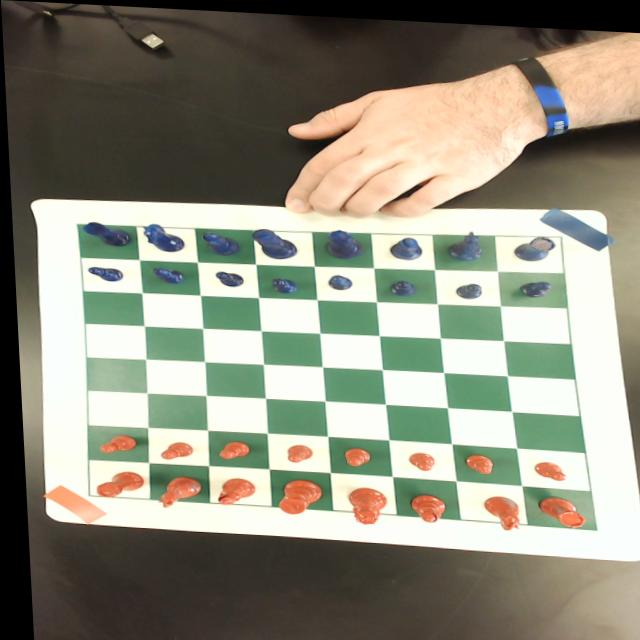B: (384, 231, 420, 256), (198, 230, 237, 253)
K: (248, 226, 294, 258)
N: (138, 221, 181, 251), (443, 225, 480, 257)
P: (83, 264, 120, 282), (515, 274, 550, 293), (147, 265, 181, 284), (450, 276, 480, 296), (384, 275, 412, 294), (208, 269, 241, 285), (265, 274, 293, 291), (323, 271, 349, 288)
Q: (320, 226, 359, 256)
R: (507, 227, 552, 257), (79, 220, 128, 246)
b: (403, 489, 443, 519), (210, 475, 251, 504)
cb: (73, 223, 591, 524)
k: (271, 475, 318, 513)
n: (151, 474, 198, 511), (475, 490, 516, 525)
p: (94, 433, 132, 454), (211, 438, 246, 459), (152, 439, 188, 459), (527, 455, 561, 476), (458, 448, 488, 470), (401, 447, 431, 468), (337, 444, 366, 464), (280, 441, 307, 460)
q: (341, 484, 382, 521)
r: (531, 490, 581, 523), (89, 468, 139, 498)
